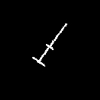double_crochet: (33, 24, 66, 65)
